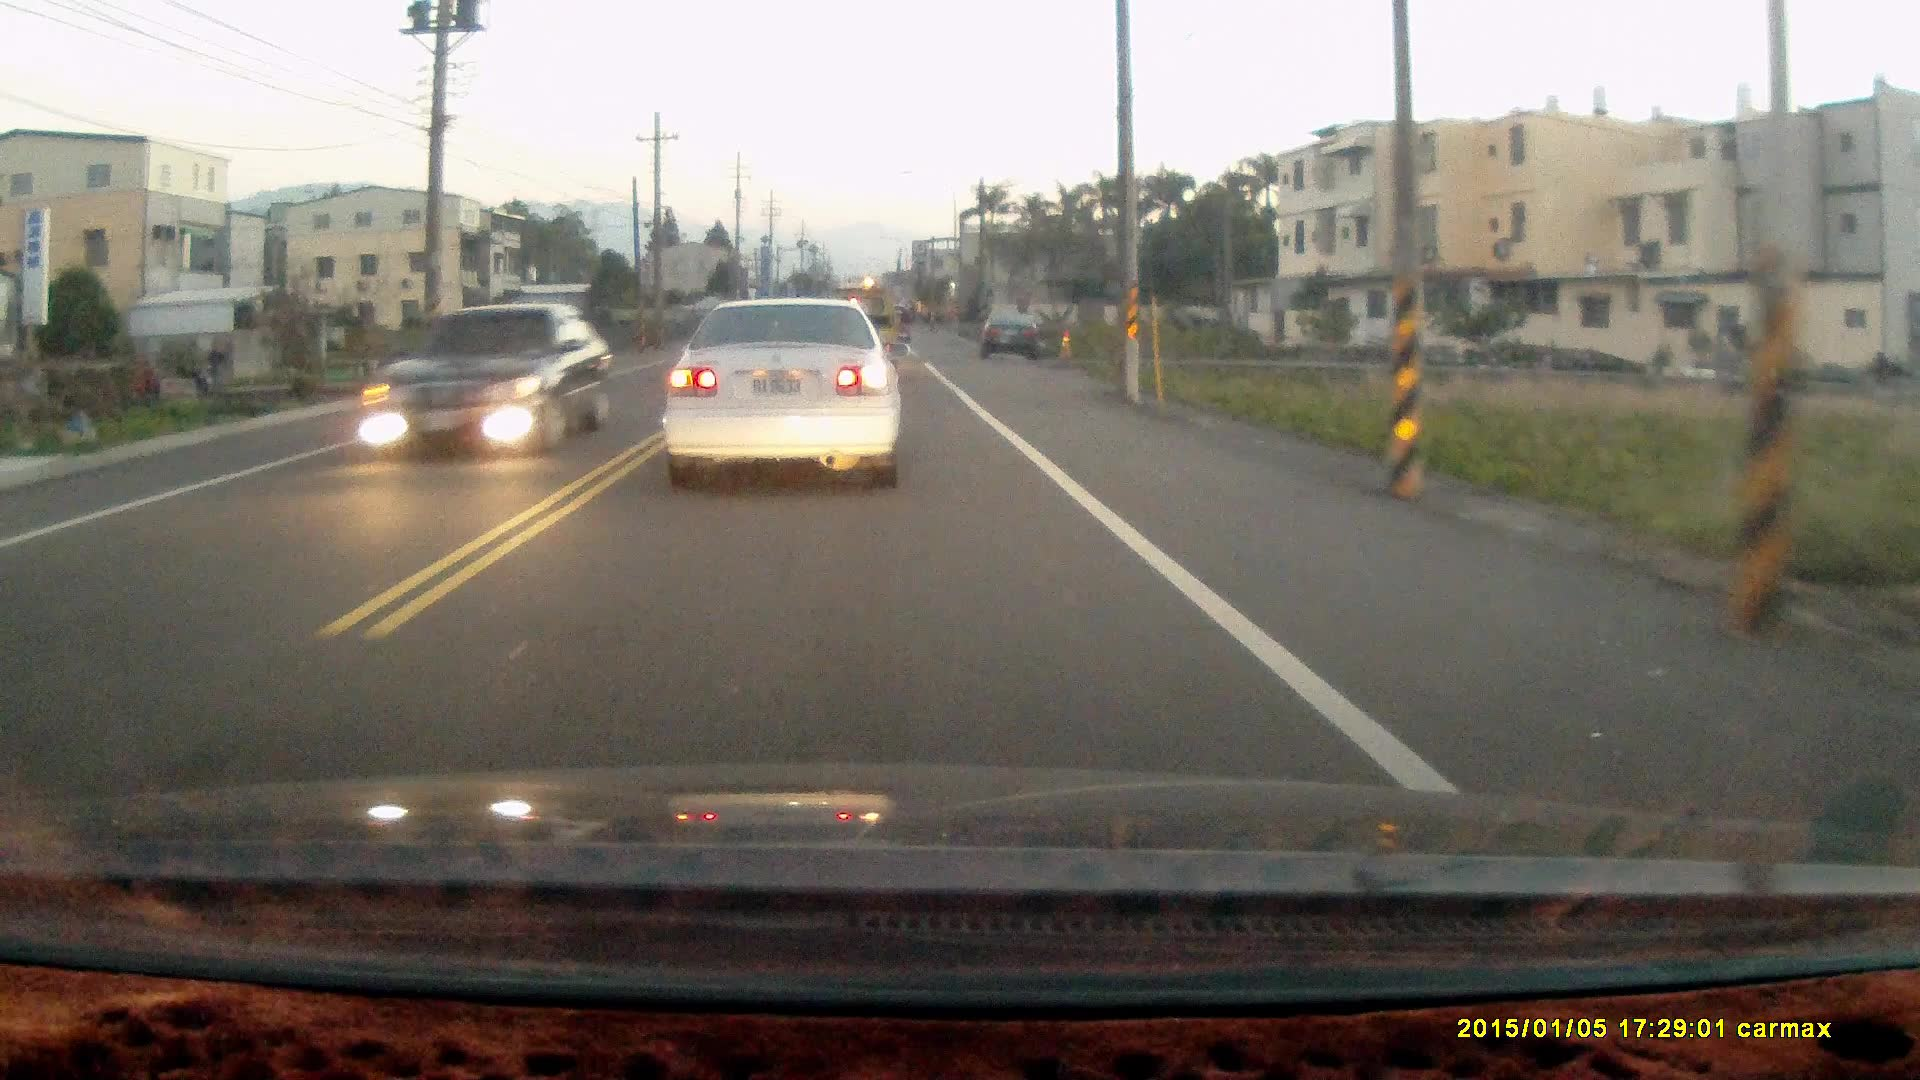pedestrian: (135, 358, 160, 406), (204, 339, 224, 388)
vehicle: (663, 289, 905, 487), (358, 300, 617, 457), (981, 306, 1044, 356)
